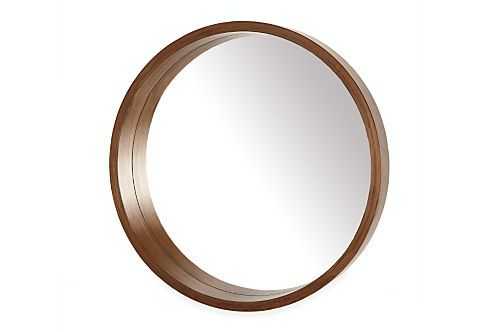Nonrec_Glass: (92, 13, 418, 320)
